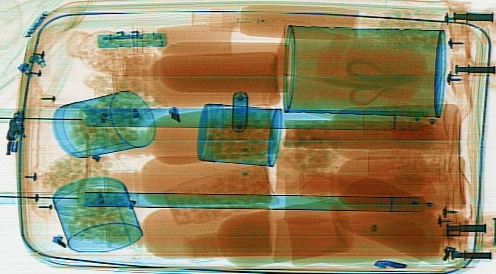scissors: (344, 53, 433, 106)
